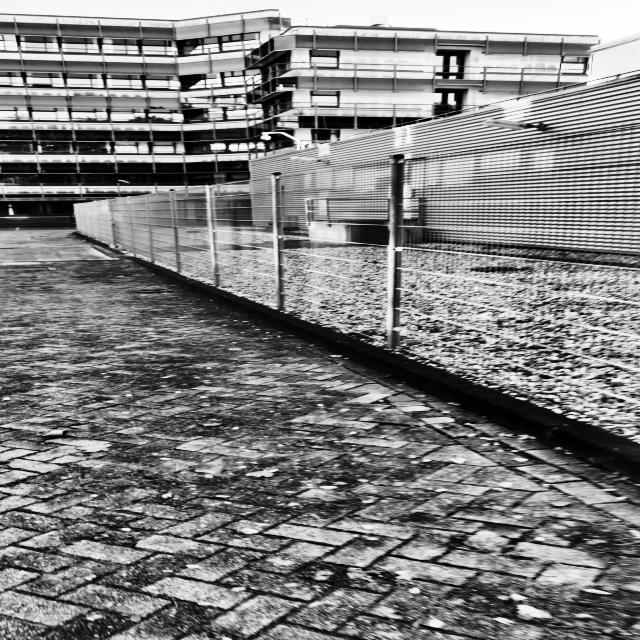fences: (403, 78, 640, 405), (71, 177, 377, 270)
